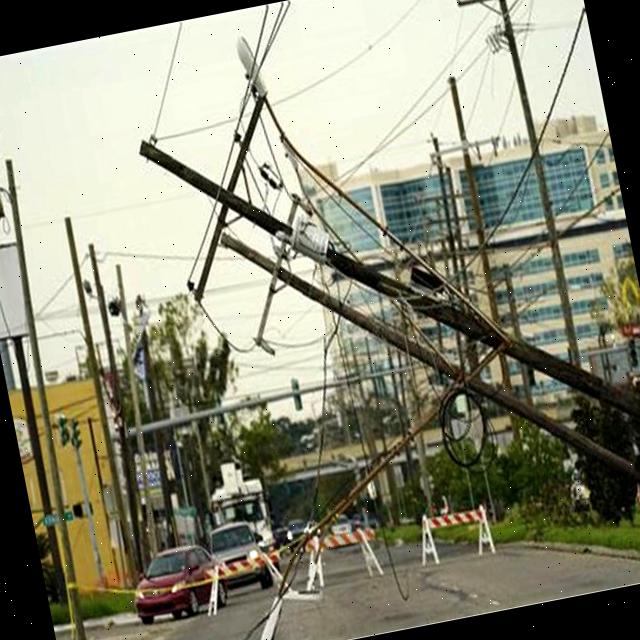Broken Pole: (130, 0, 640, 562)
